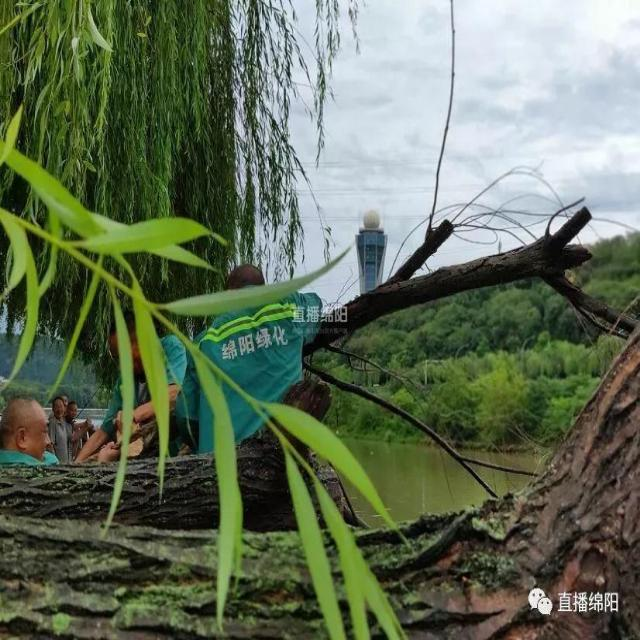fallen_object: (0, 377, 362, 523), (302, 212, 636, 366)
